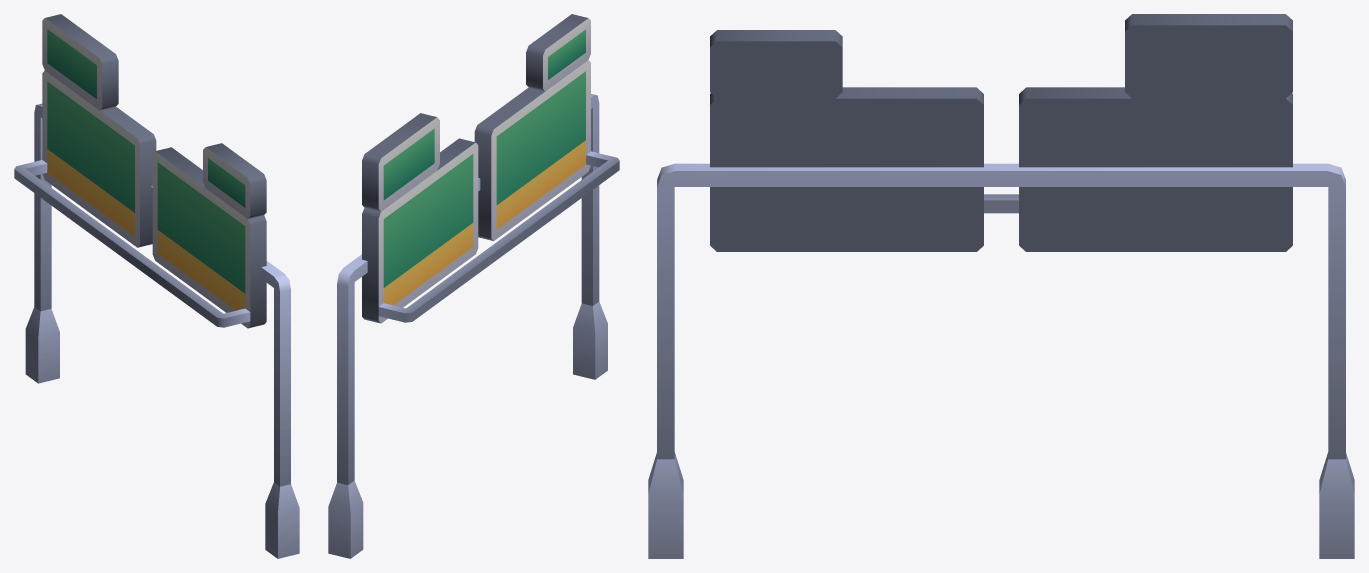
Rendered from sign-highway-detailed.glb.
The picture shows the model from 3 angles, left to right: view 1: azimuth 30°, elevation 25°; view 2: azimuth 150°, elevation 25°; view 3: azimuth 270°, elevation 25°; orthographic projection. The views are drawn at different scales.
Visible parts, largest first — view 1: sign-highway-detailed; view 2: sign-highway-detailed; view 3: sign-highway-detailed.
Part boxes in pixels (bbox=[...]): sign-highway-detailed: bbox=[14, 14, 299, 558]; sign-highway-detailed: bbox=[328, 14, 619, 558]; sign-highway-detailed: bbox=[648, 14, 1354, 558].
Size of the model in its own units: 0.1324 by 0.8221 by 1.
Materials: 1 (1 with a texture image).
